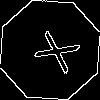X: (25, 25, 81, 75)
